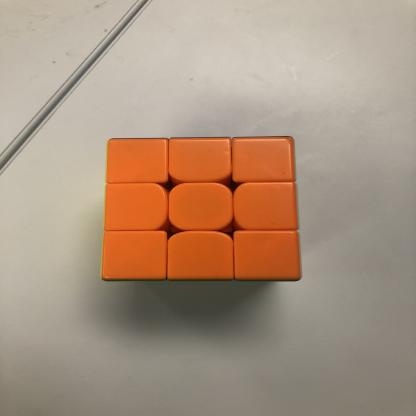SolvedCube: (88, 122, 312, 291)
